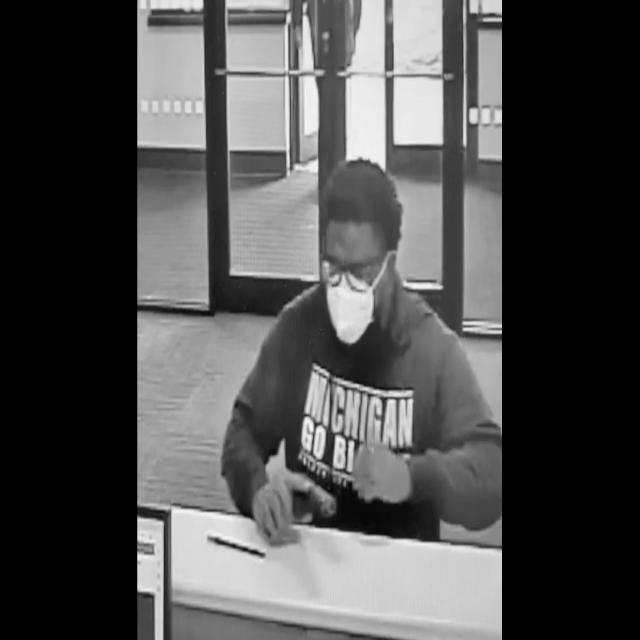gun: (254, 471, 338, 540)
person with a gun: (222, 160, 502, 540)
